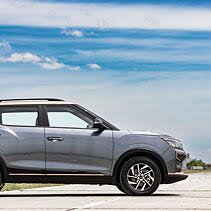XUV 400: (1, 95, 190, 198)
